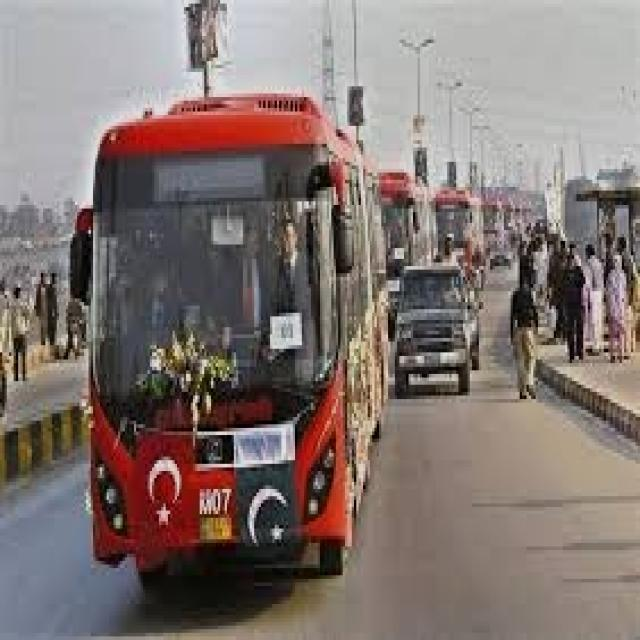Bus: (56, 65, 392, 579), (373, 144, 428, 280), (431, 170, 482, 266)
